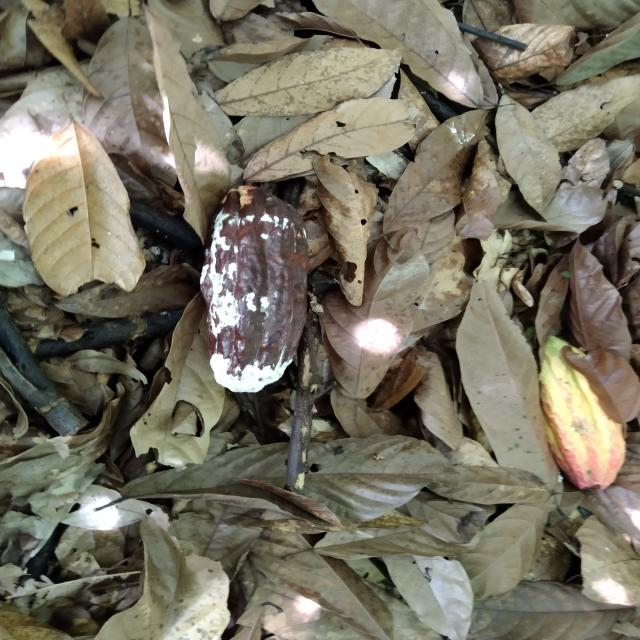Monilia: (197, 184, 310, 392)
